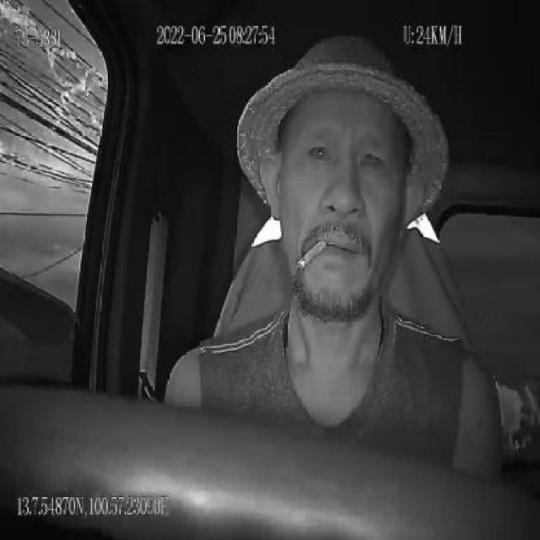smoking: (296, 237, 327, 273)
